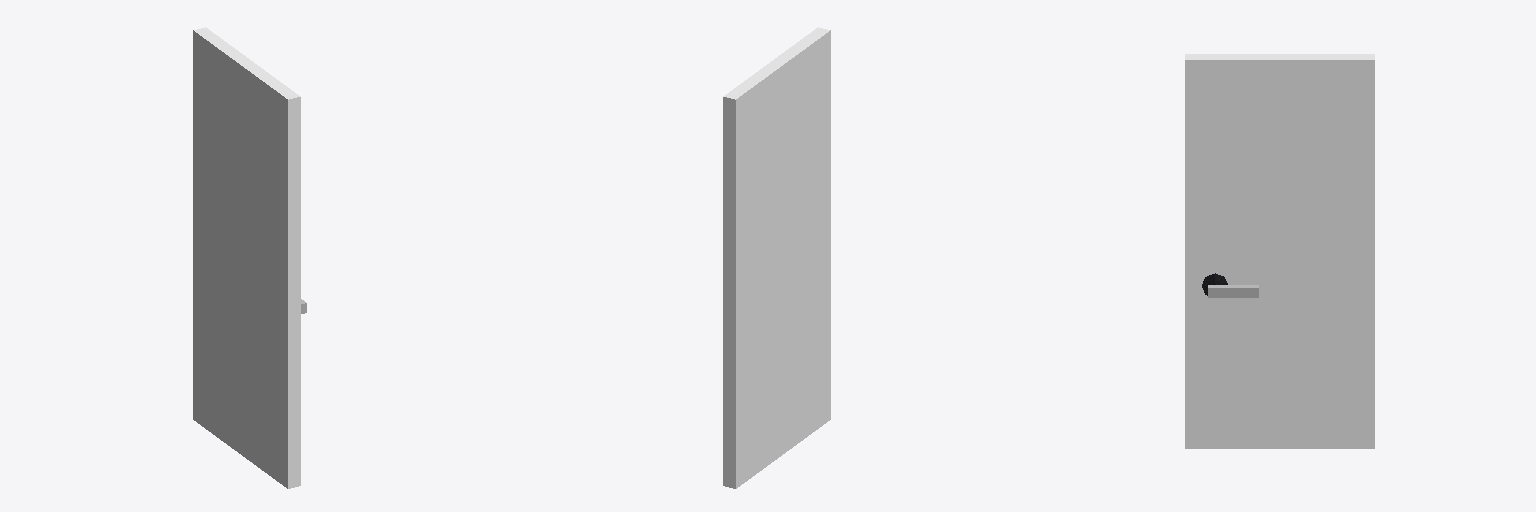
The picture shows the model from 3 angles: view 1: azimuth 30°, elevation 25°; view 2: azimuth 150°, elevation 25°; view 3: azimuth 270°, elevation 25°; orthographic projection.
Parts seen in each view (by area): view 1: Office Door; view 2: Office Door; view 3: Office Door.
Part boxes in pixels (bbox=[...]): Office Door: bbox=[193, 27, 306, 488]; Office Door: bbox=[723, 27, 830, 488]; Office Door: bbox=[1185, 54, 1374, 448].
Bounding box in the file's own units: 0.487 × 5.9 × 2.6.
3 materials, 1 textured.